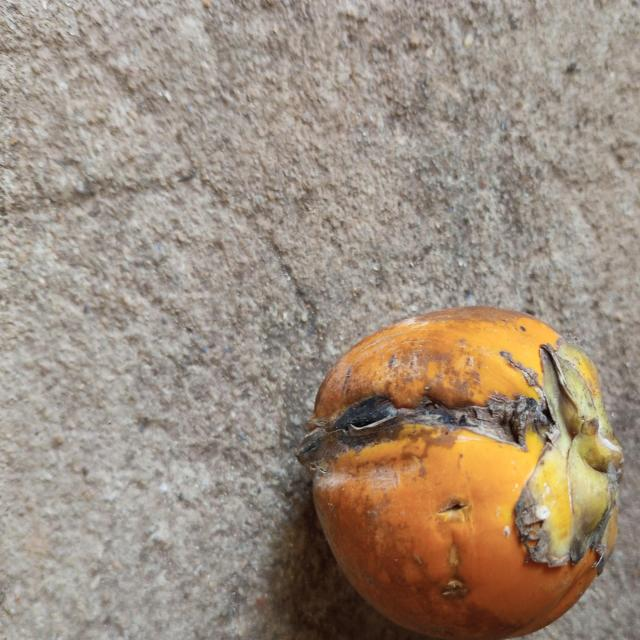damaged: (300, 307, 624, 640)
